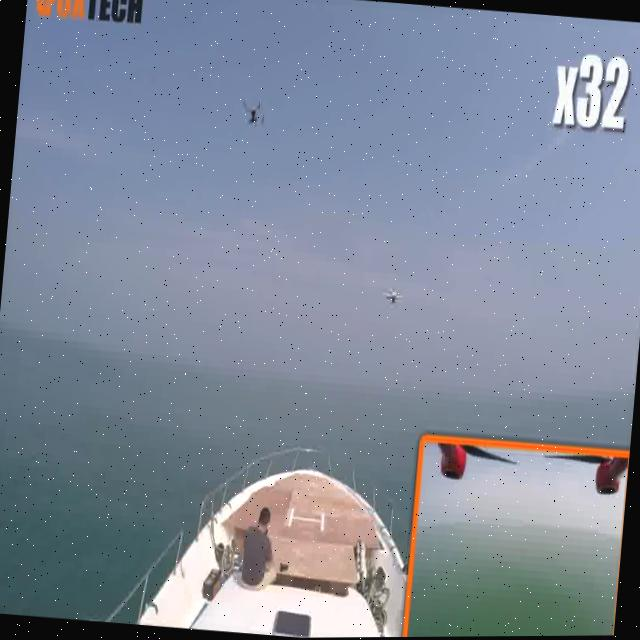drone: (232, 88, 274, 139), (380, 277, 408, 312)
